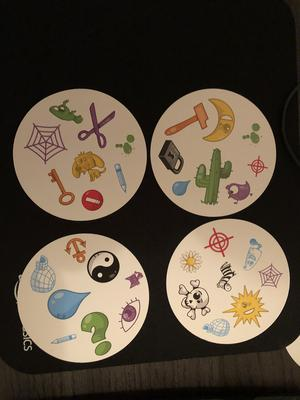ancre: (64, 236, 89, 266)
cactus: (192, 146, 233, 205)
cadena: (157, 138, 187, 176)
chat: (124, 264, 144, 290)
chien: (68, 148, 108, 184)
cible: (204, 225, 234, 256), (247, 154, 270, 179)
ciseau: (76, 100, 117, 150)
cle: (46, 167, 77, 208)
crayon: (51, 331, 79, 348), (114, 162, 128, 194)
dinosore: (48, 97, 86, 127)
fantome: (242, 236, 266, 271)
fleur: (179, 250, 203, 274)
goutte: (47, 283, 90, 321), (169, 179, 193, 197)
igloo: (30, 255, 57, 292), (202, 316, 231, 337)
lune: (202, 94, 237, 144)
marteau: (163, 102, 211, 139)
oeuil: (117, 296, 141, 333)
oiseau: (224, 180, 255, 204)
point_interrogation: (80, 309, 112, 356)
sens_interdit: (80, 187, 105, 213)
soleil: (223, 284, 268, 327)
tache: (241, 122, 264, 145), (115, 132, 136, 156)
tete_mort: (177, 278, 212, 321)
toile: (22, 121, 69, 163), (257, 262, 285, 290)
ying_yang: (84, 248, 123, 285)
zebre: (215, 260, 238, 294)
